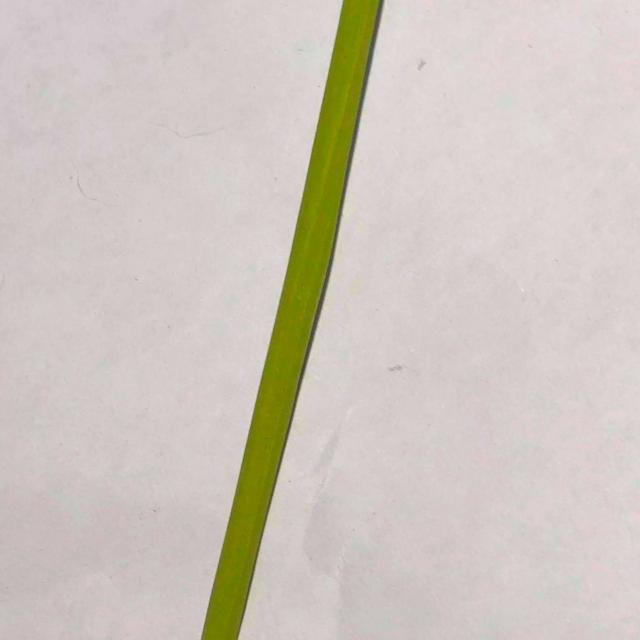Rice_Healthy: (202, 0, 382, 640)
